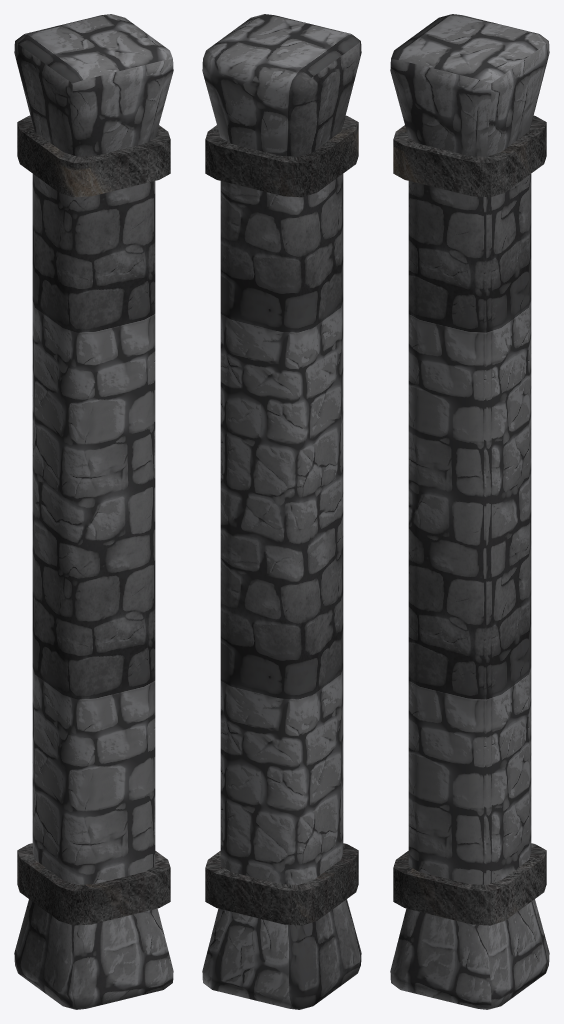
The model's file is Pillar.obj.
The picture shows the model from 3 angles, left to right: view 1: azimuth 30°, elevation 25°; view 2: azimuth 150°, elevation 25°; view 3: azimuth 330°, elevation 25°; orthographic projection.
Parts seen in each view (by area): view 1: Pillar; view 2: Pillar; view 3: Pillar.
Part boxes in pixels (<box>): Pillar: <box>14,14,173,1009</box>; Pillar: <box>202,14,361,1009</box>; Pillar: <box>390,14,549,1009</box>.
Bounding box in the file's own units: 0.3366 × 2.67 × 0.3366.
